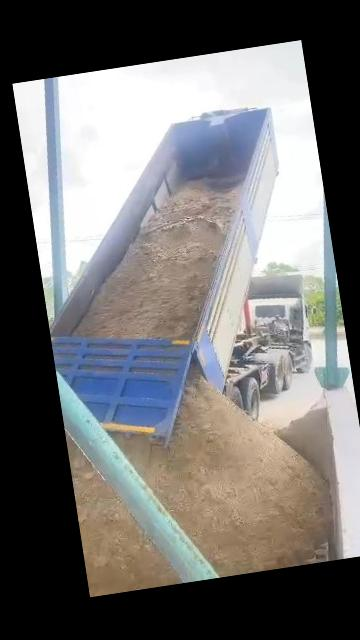sand: (116, 372, 331, 576), (75, 182, 239, 338), (73, 462, 177, 595), (277, 399, 332, 482)
